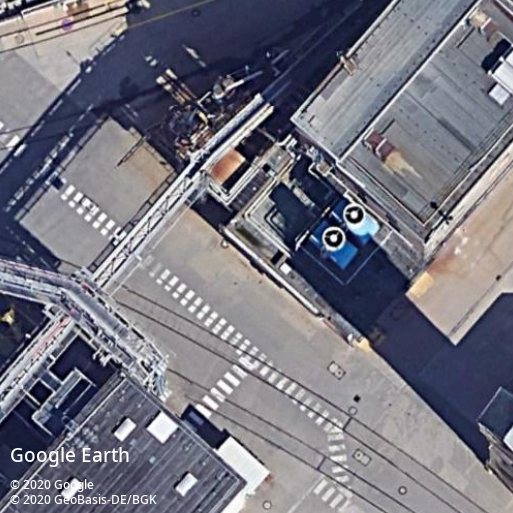Vent: (322, 226, 346, 250), (343, 203, 365, 226)
